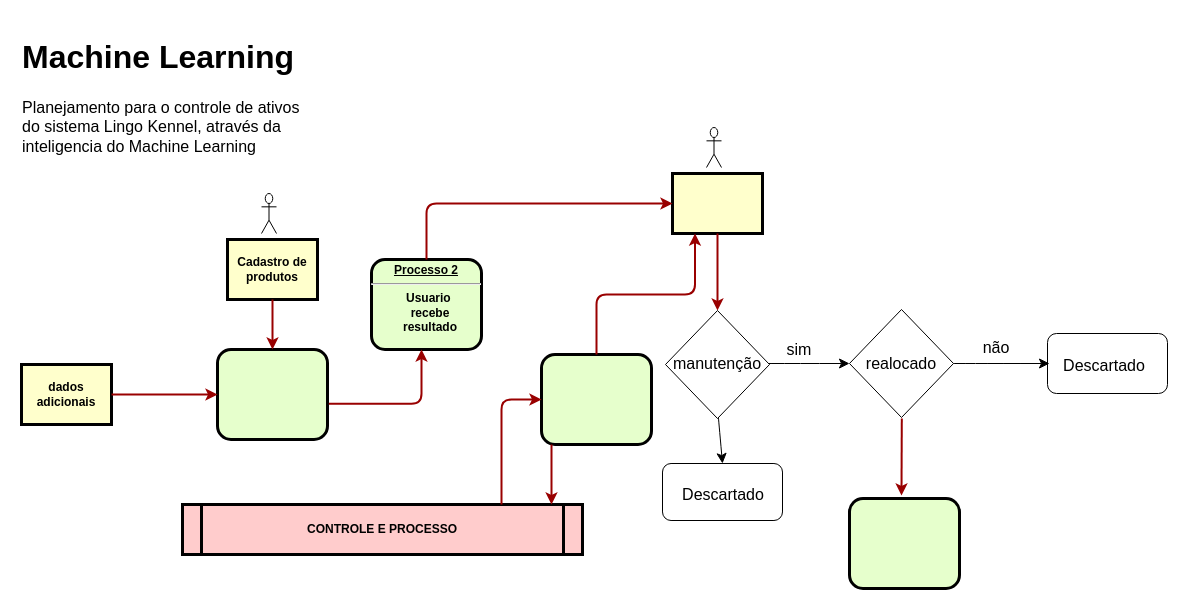
Image size: 1185x607. Some labels were removed from this diagram. The shapes that lost their labels are listed below. From the top down, each one's centre as x and y in pixels, then its label:
the point at 717,203: Gerenciamento
the point at 272,394: Processo 1 Tensorflow, faz calculo e previsão
the point at 596,399: Processo 3 Informação é validada
the point at 904,543: Processo 4 Em planejamento
